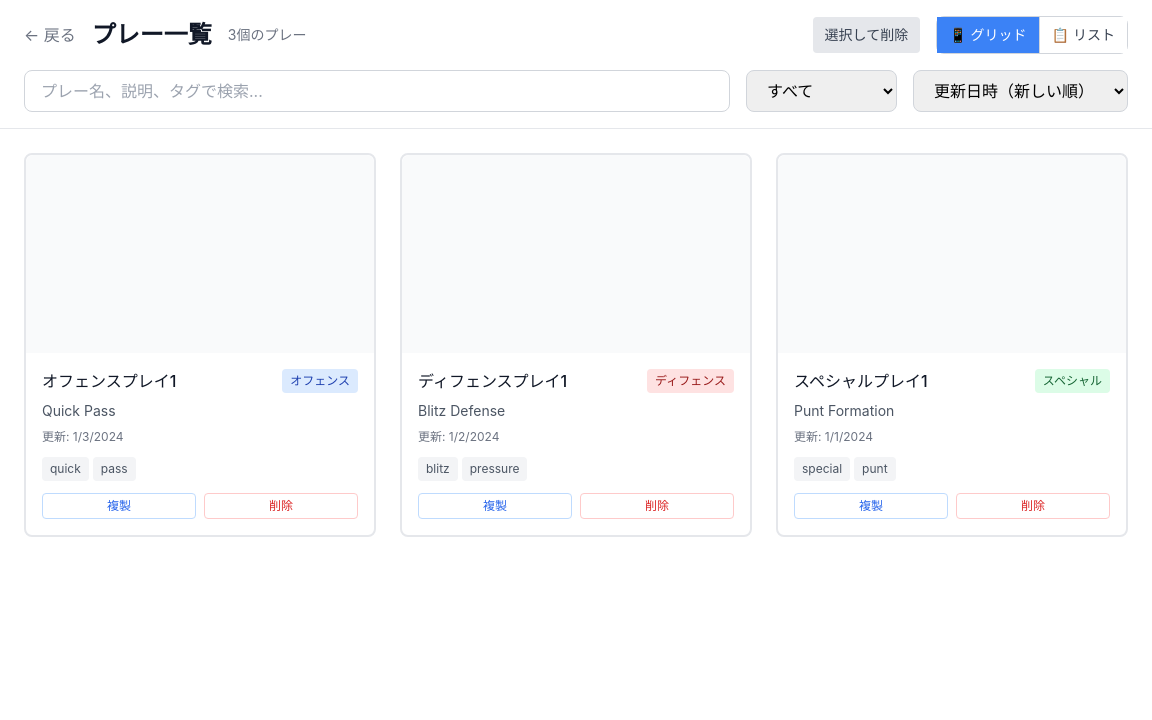
Scenario: PlayLibrary › 検索機能 › タイトルで検索できること
Type "オフェンス" into the field with placeholder "プレー名、説明、タグで検索..." at (377, 91), box [24,70,730,112]
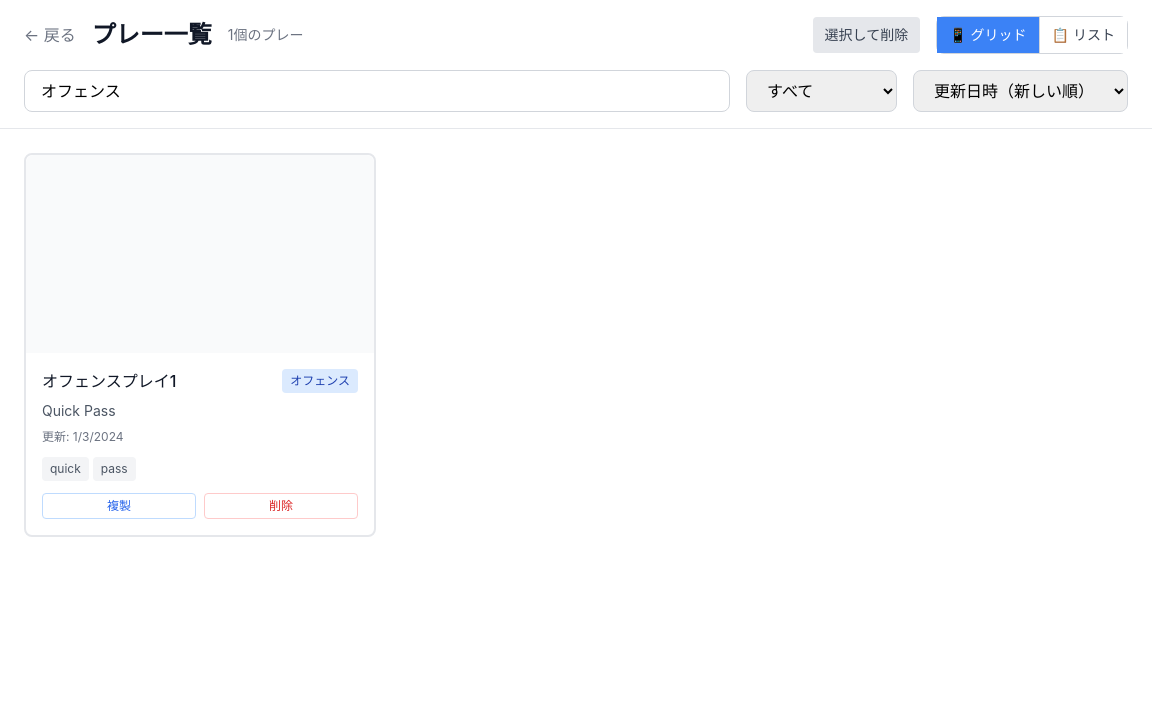
Expected: the heading "オフェンスプレイ1" is shown, [42,371,176,391]
Expected: the heading "ディフェンスプレイ1" is gone
Expected: the text "1個のプレー" is shown, [228,25,304,45]
